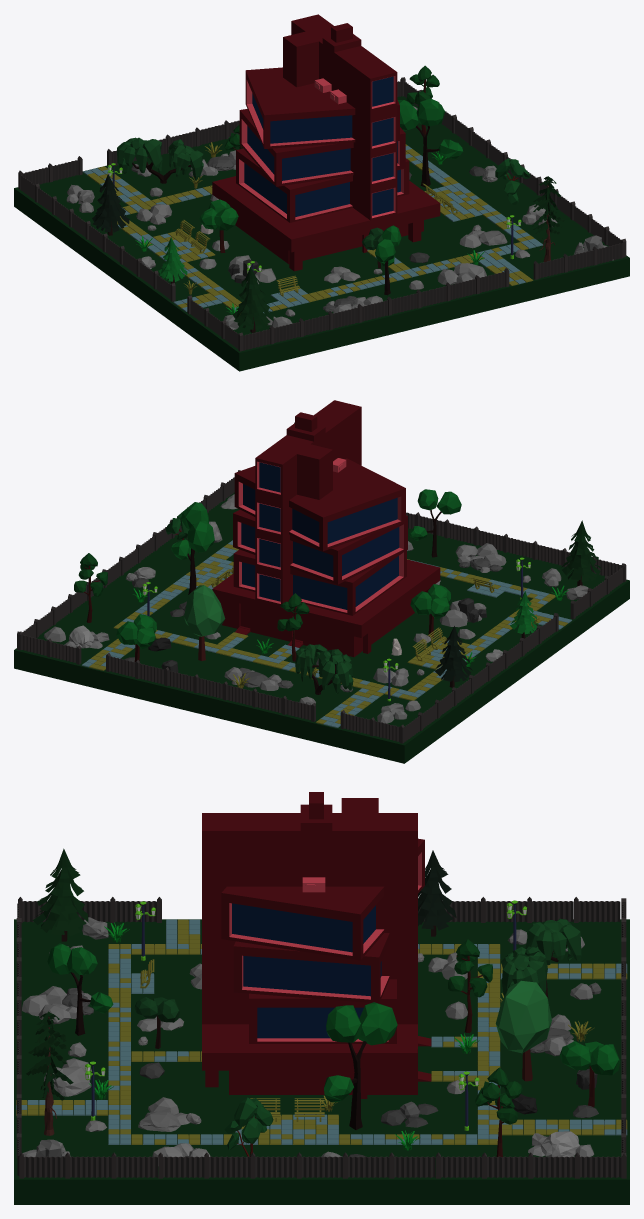
Rendered from BigOffice.FBX.
3 renders of one model, top to bottom at view 1: azimuth 30°, elevation 25°; view 2: azimuth 150°, elevation 25°; view 3: azimuth 270°, elevation 25°, orthographic. The views are drawn at different scales.
Visible parts, largest first — view 1: office; view 2: office; view 3: office.
Boxes of the visible parts, x1,y1,x2,y2 form: office: (14,14,629,371); office: (14,400,629,763); office: (14,792,629,1204).
Size of the model in its own units: 20000 by 10352 by 20000.
